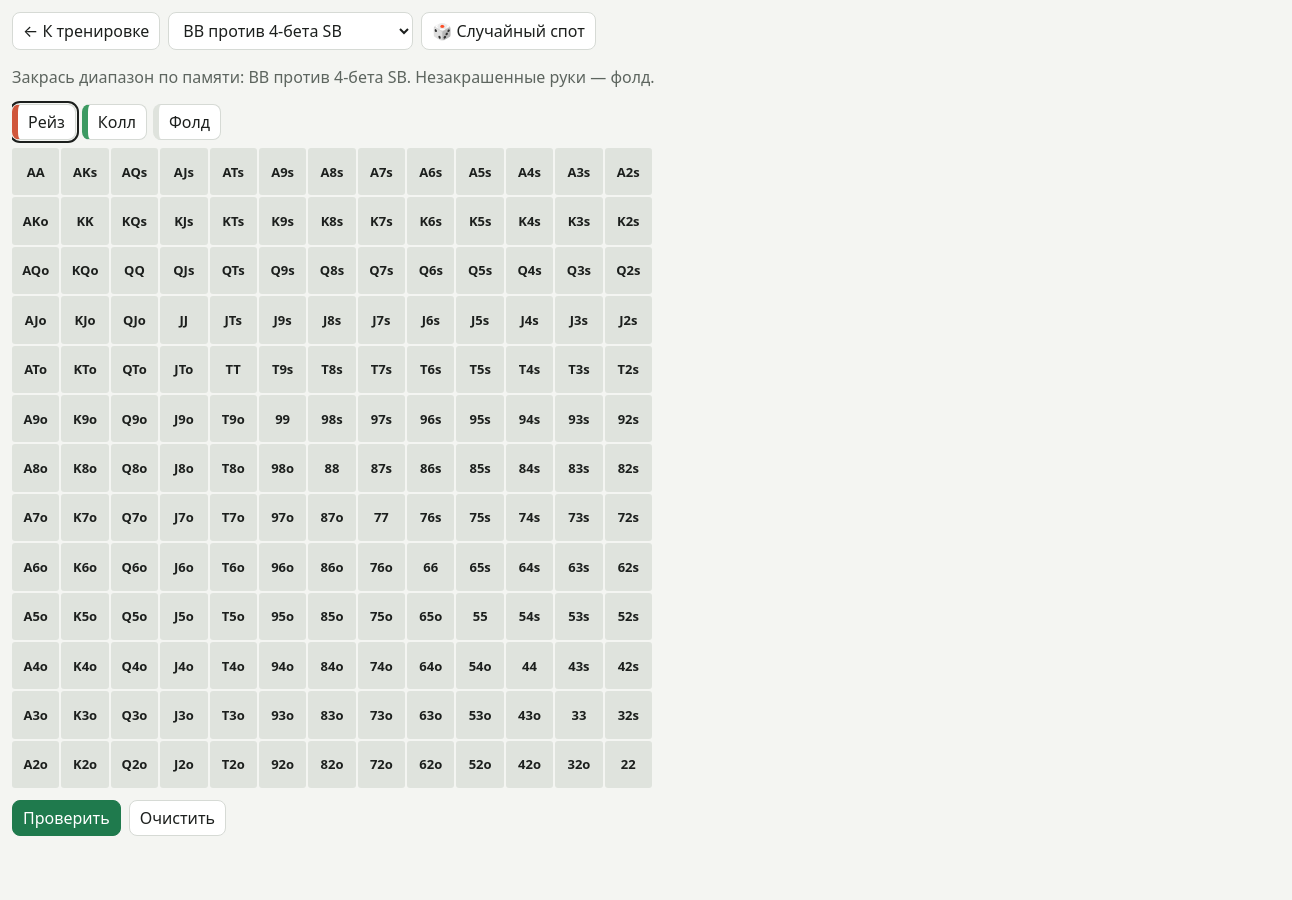
Test: DrawPage › starts over on the same spot
The image size is (1292, 900).
Click the button "Проверить" at (66, 818), box [12,800,121,836]
(page scrolled)
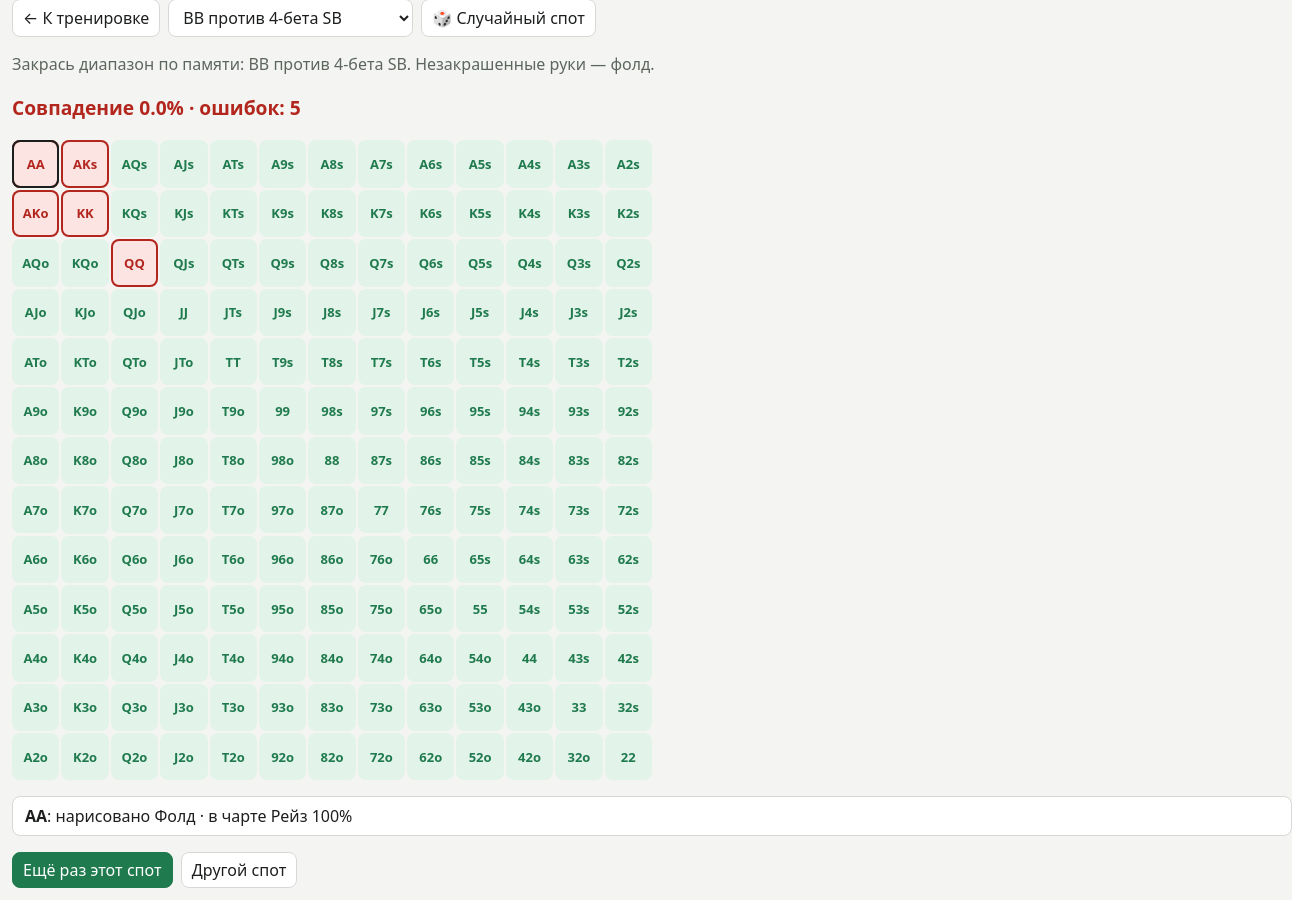
Click the button "Ещё раз этот спот" at (92, 870), box [12,852,173,888]
(page scrolled)
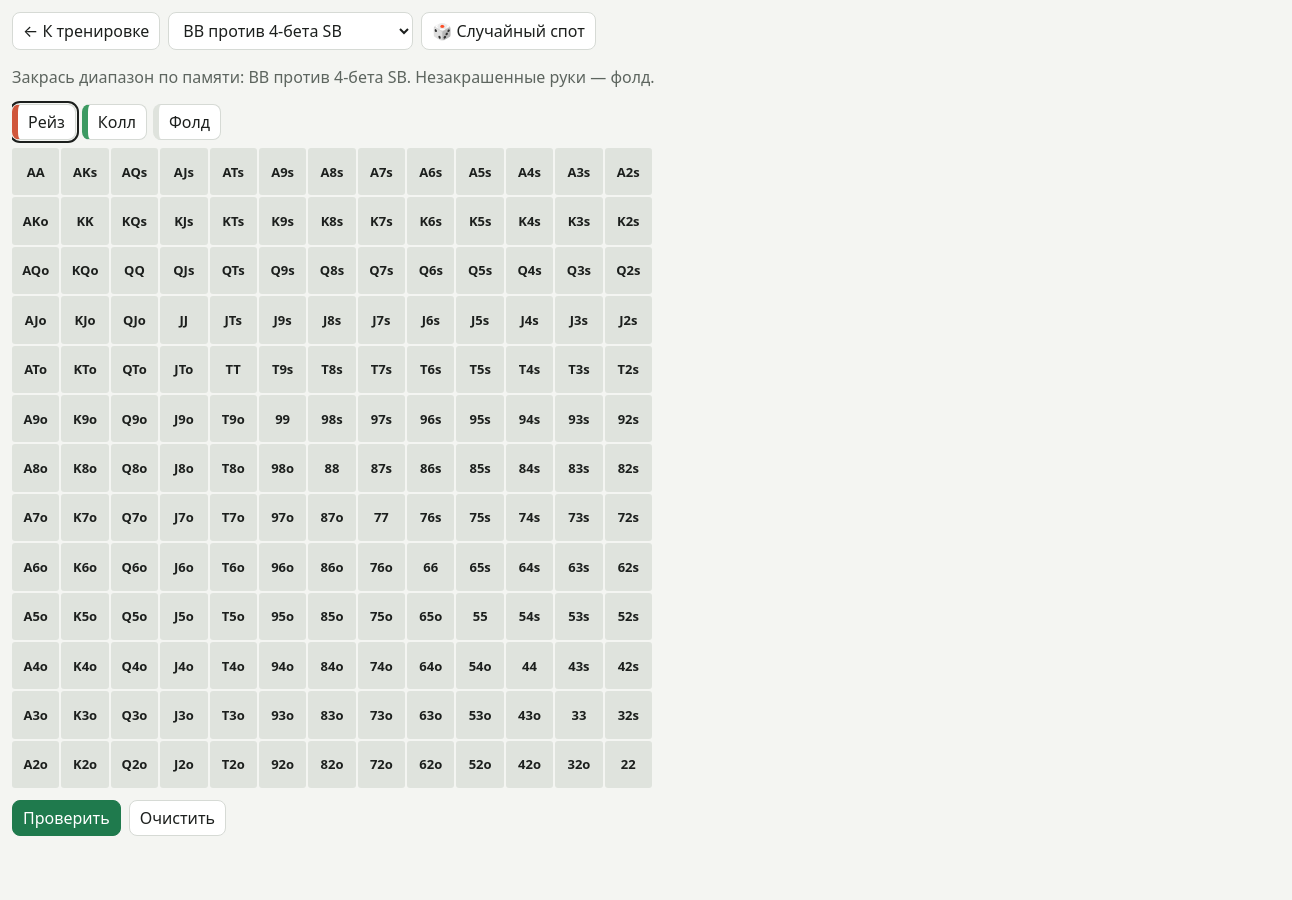
Now the button "Проверить" is shown, box [12,800,121,836]
